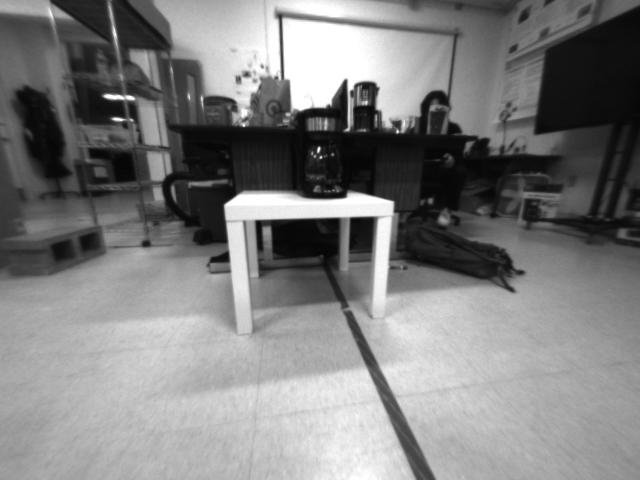coffee_pot: (291, 106, 351, 198)
